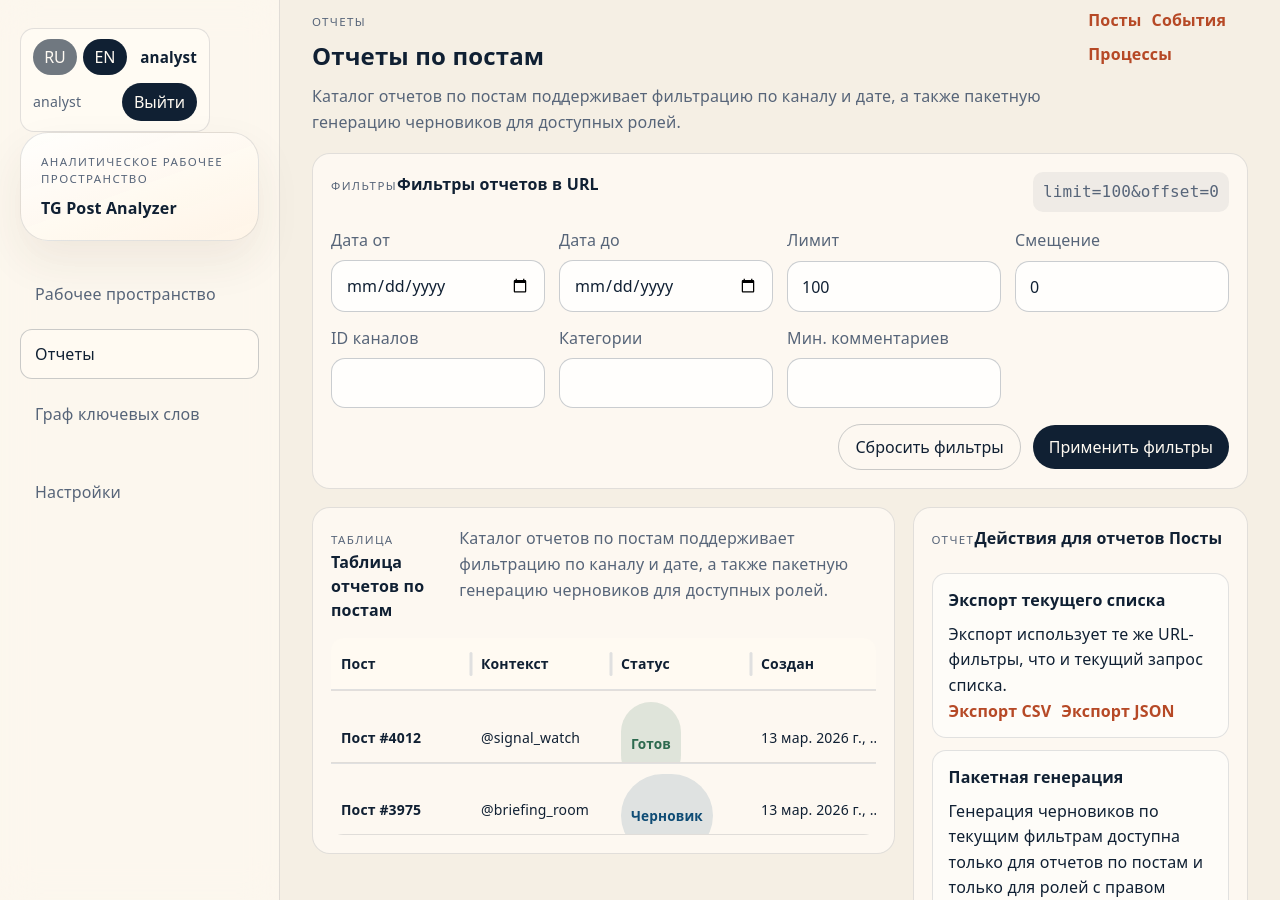
Test: Reports page › renders reports list tables for posts, events, and processes
What coordinates should you click on to do the following:
click the link "События"
I would click on:
 (1189, 20)
Its box is [1152,8,1226,32].
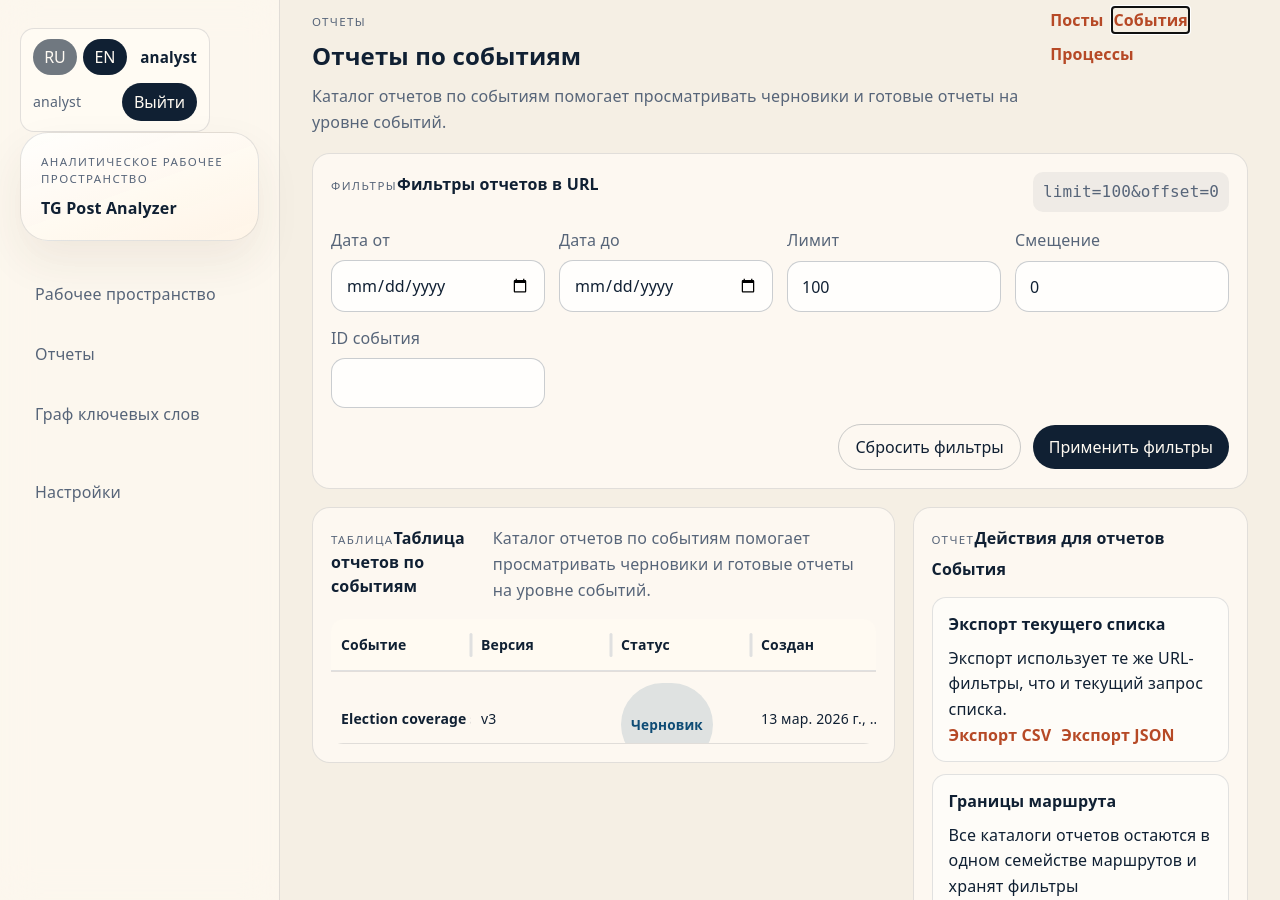
Result: the text "Election coverage spike" is shown at [341,709,471,728]
What coordinates should you click on to do the following:
click the link "Процессы"
I would click on:
 (1092, 54)
Its box is [1050,42,1134,66].
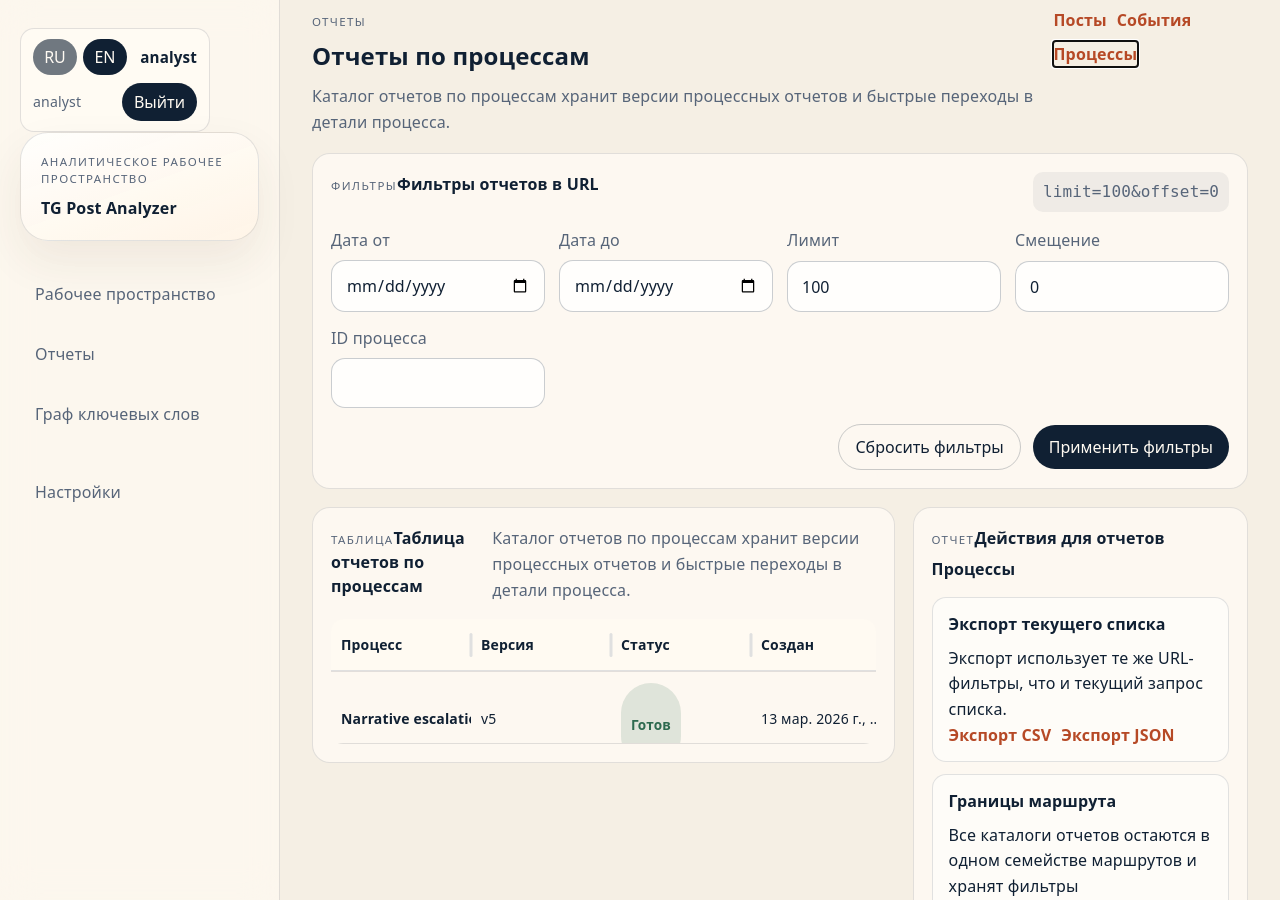
Result: the text "Narrative escalation chain" is shown at [341,709,471,728]
